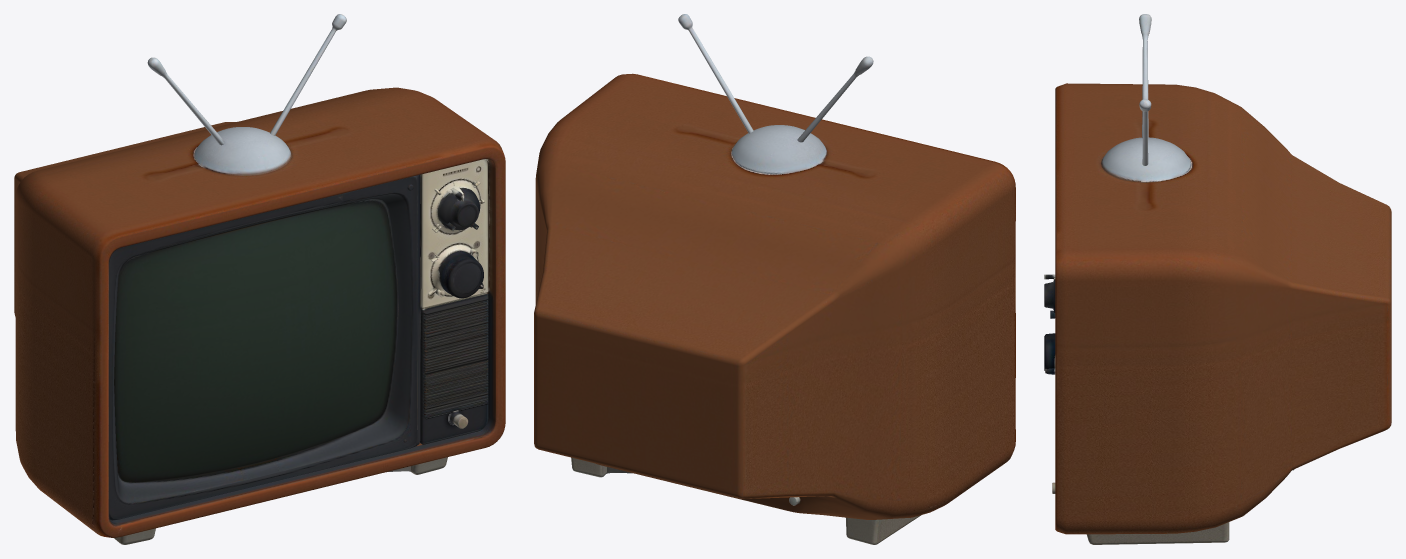
File: television.glb
The picture shows the model from 3 angles, left to right: view 1: azimuth 30°, elevation 25°; view 2: azimuth 150°, elevation 25°; view 3: azimuth 270°, elevation 25°; orthographic projection. The views are drawn at different scales.
Parts seen in each view (by area): view 1: television / mesh; view 2: television / mesh; view 3: television / mesh.
Part boxes in pixels (box(x1,y1,x2,y2)): television / mesh: box(14, 14, 505, 544); television / mesh: box(534, 14, 1015, 544); television / mesh: box(1044, 14, 1391, 544).
Bounding box in the file's own units: 0.6087 × 0.64 × 0.4849.
Materials: 1 (1 with a texture image).
